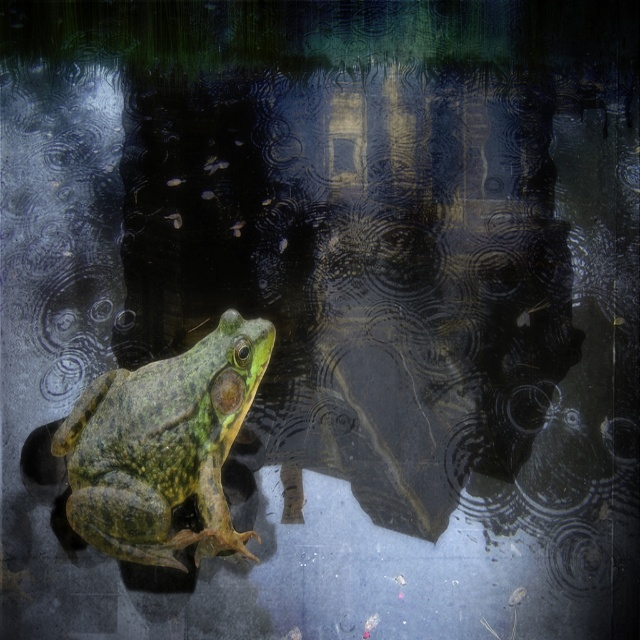Frog: (49, 306, 276, 576)
